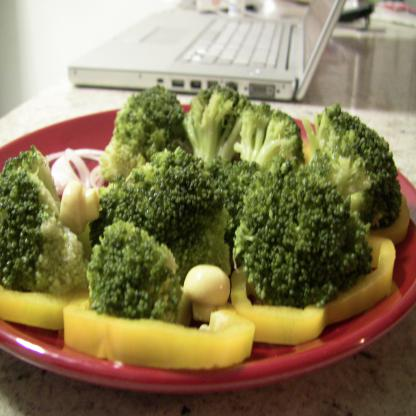Broccoli: (0, 86, 402, 324)
